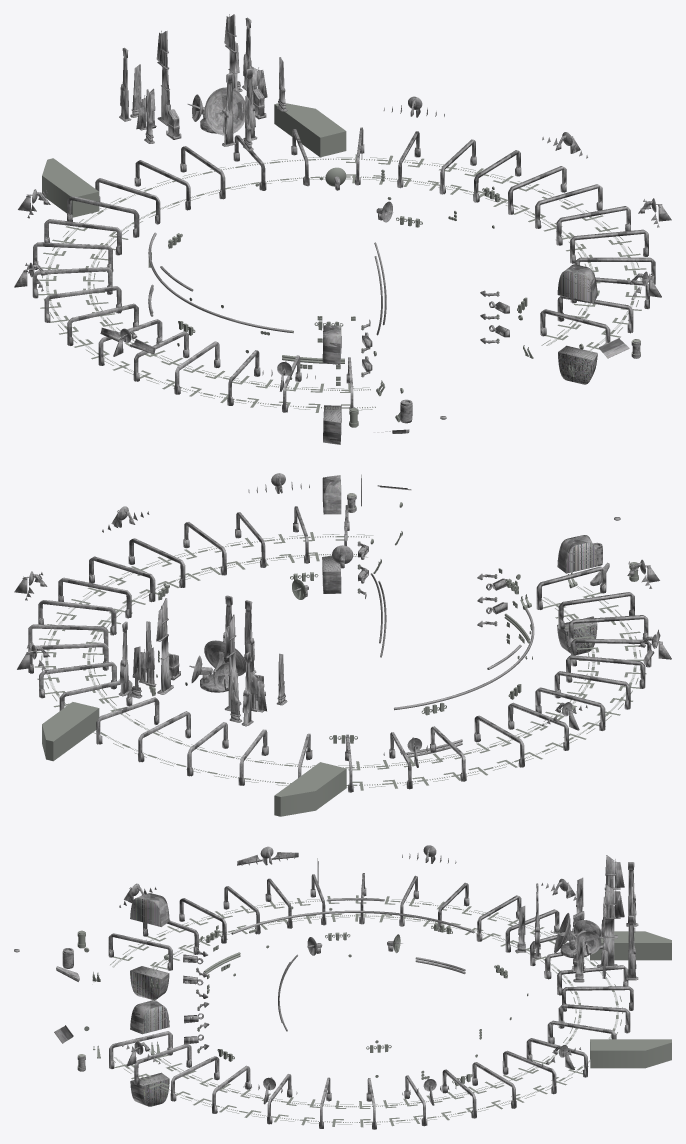
The model's file is piezas.fbx.
3 views of the same model, one above another, from view 1: azimuth 30°, elevation 25°; view 2: azimuth 150°, elevation 25°; view 3: azimuth 270°, elevation 25° (orthographic). The views are drawn at different scales.
Parts seen in each view (by area): view 1: piezas; view 2: piezas; view 3: piezas.
Part boxes in pixels (left/top/right/bottom): piezas: left=14, top=14, right=671, bottom=444; piezas: left=14, top=473, right=671, bottom=816; piezas: left=14, top=845, right=671, bottom=1129.
Size of the model in its own units: 485 by 176 by 547.
